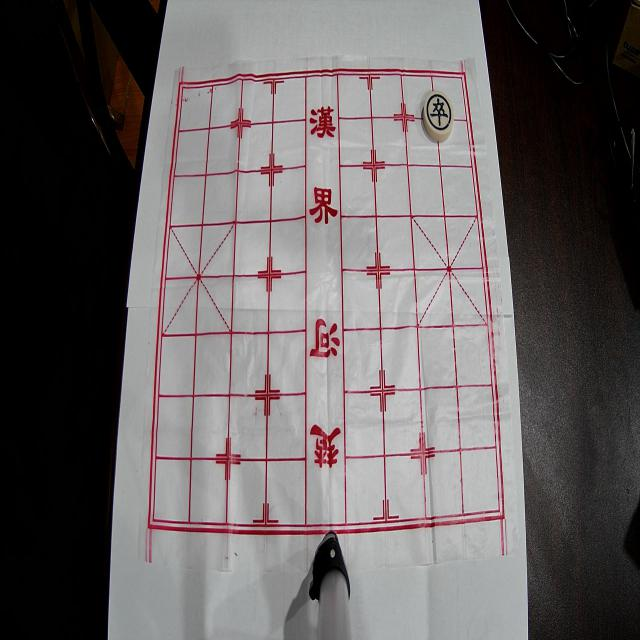black-soldier: (422, 90, 453, 142)
